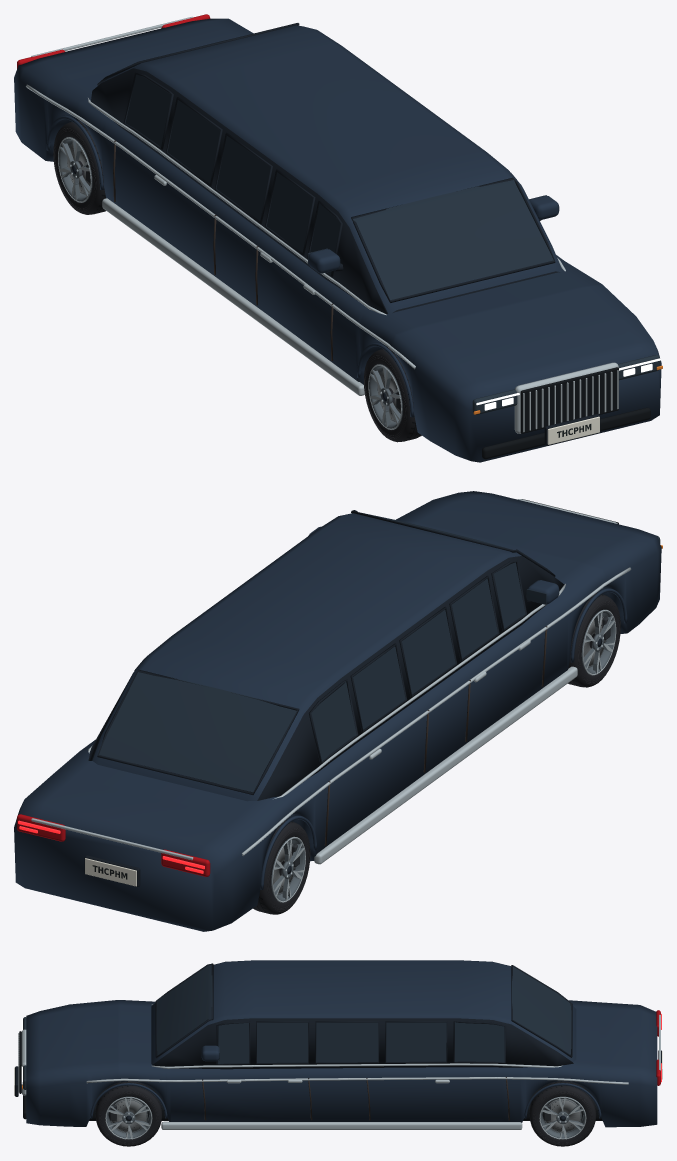
File: limo.glb
3 views of the same model, one above another, from view 1: azimuth 30°, elevation 25°; view 2: azimuth 150°, elevation 25°; view 3: azimuth 270°, elevation 25° (orthographic). The views are drawn at different scales.
Parts seen in each view (by area): view 1: body, wheel_FR, wheel_RR; view 2: body, wheel_RR, wheel_FR; view 3: body, wheel_RL, wheel_FL.
Part boxes in pixels (box(x1,y1,x2,y2)): body: box(14, 14, 662, 462); wheel_FR: box(364, 347, 421, 442); wheel_RR: box(53, 120, 105, 214); body: box(14, 491, 662, 931); wheel_RR: box(253, 820, 310, 914); wheel_FR: box(568, 593, 620, 687); body: box(14, 960, 662, 1129); wheel_RL: box(529, 1081, 596, 1146); wheel_FL: box(95, 1081, 162, 1146).
Size of the model in its own units: 2.18 by 1.53 by 7.22.
